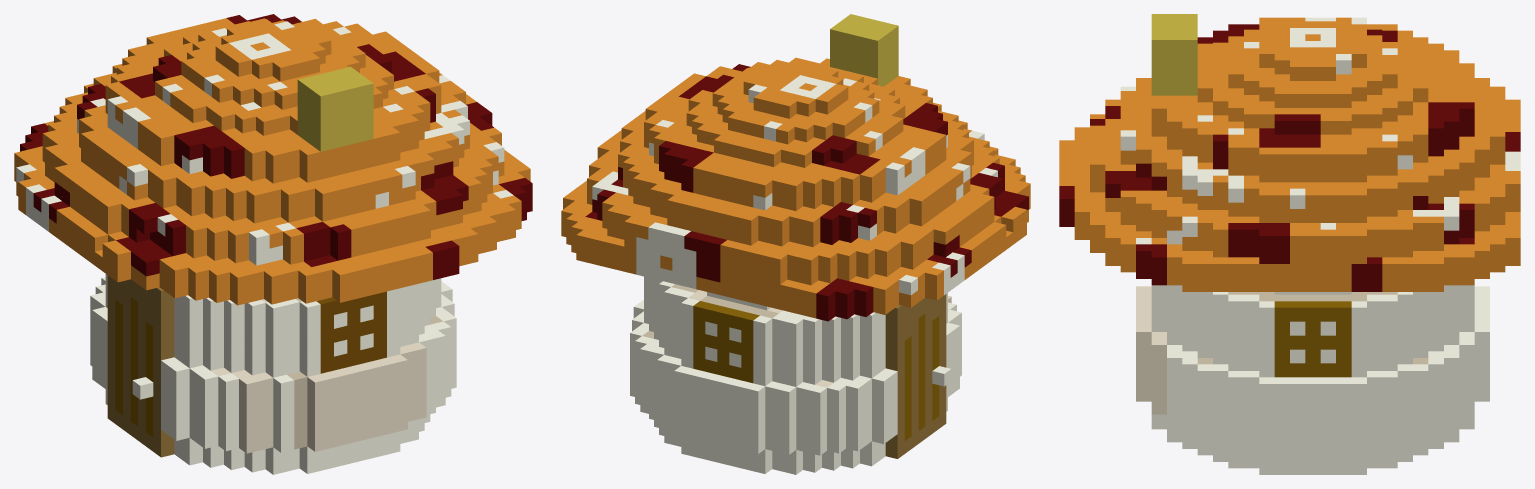
The model's file is mushroom2.fbx.
3 renders of one model, left to right at view 1: azimuth 30°, elevation 25°; view 2: azimuth 150°, elevation 25°; view 3: azimuth 270°, elevation 25°, orthographic. The views are drawn at different scales.
Visible parts, largest first — view 1: mushroom2; view 2: mushroom2; view 3: mushroom2.
Boxes of the visible parts, x1,y1,x2,y2 form: mushroom2: (14,14,532,474); mushroom2: (561,14,1030,474); mushroom2: (1059,14,1520,474).
Size of the model in its own units: 3000 by 2700 by 3000.
